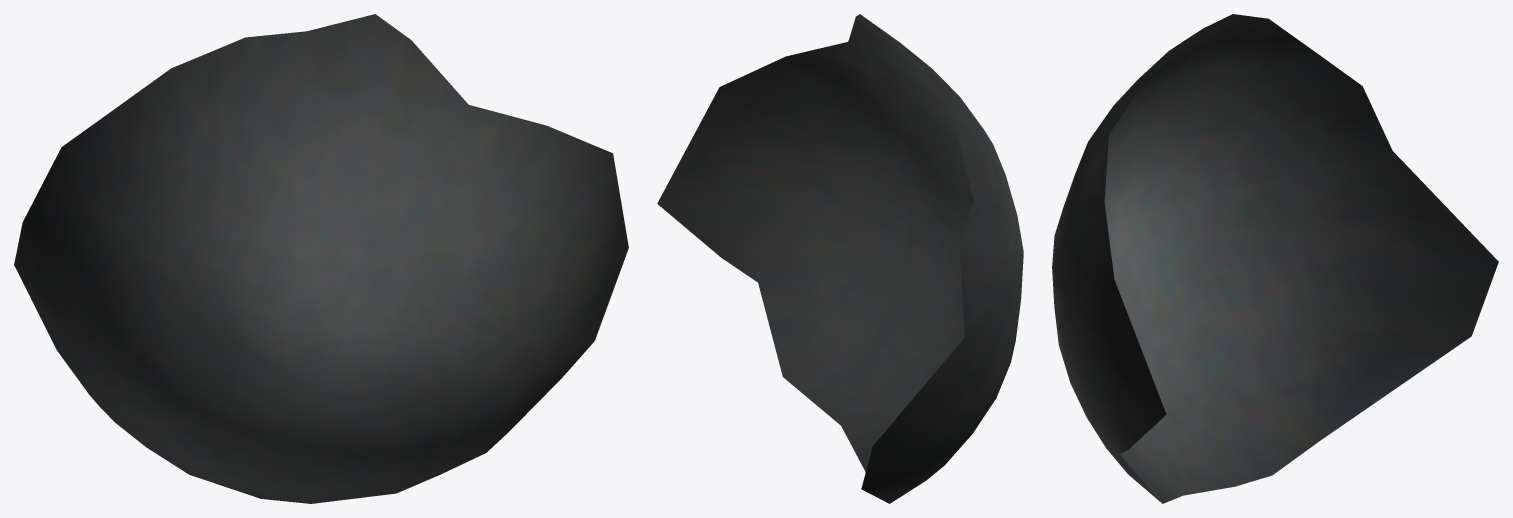
The model's file is Sphere_distfromfocus_m60_focuc_210.000001.obj.
3 renders of one model, left to right at view 1: azimuth 30°, elevation 25°; view 2: azimuth 150°, elevation 25°; view 3: azimuth 270°, elevation 25°, orthographic. The views are drawn at different scales.
Size of the model in its own units: 65.89 by 65.83 by 57.68.
1 material, 1 textured.
